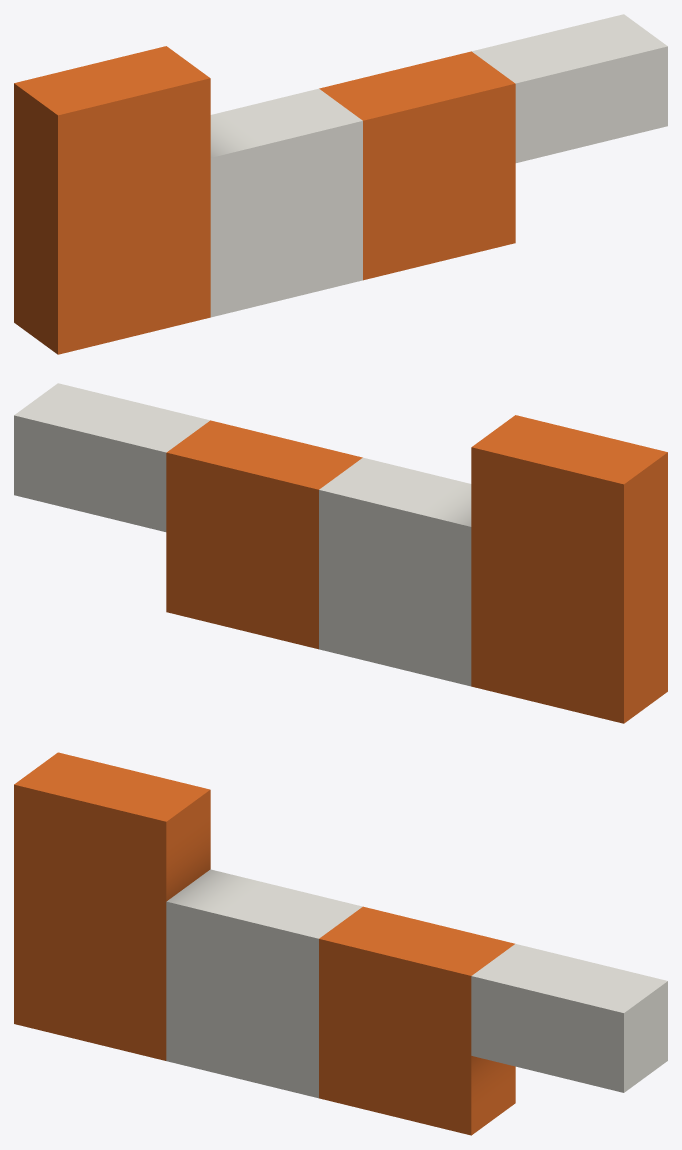
File: cm_sock.glb
3 views of the same model, one above another, from view 1: azimuth 30°, elevation 25°; view 2: azimuth 150°, elevation 25°; view 3: azimuth 330°, elevation 25° (orthographic).
Parts seen in each view (by area): view 1: cm_sock_body; view 2: cm_sock_body; view 3: cm_sock_body.
Part boxes in pixels (x1,y1,x2,y2): cm_sock_body: (14, 14, 667, 354); cm_sock_body: (14, 383, 667, 723); cm_sock_body: (14, 752, 667, 1135).
Bounding box in the file's own units: 0.5 × 0.1875 × 0.0625.
1 material, 1 textured.
